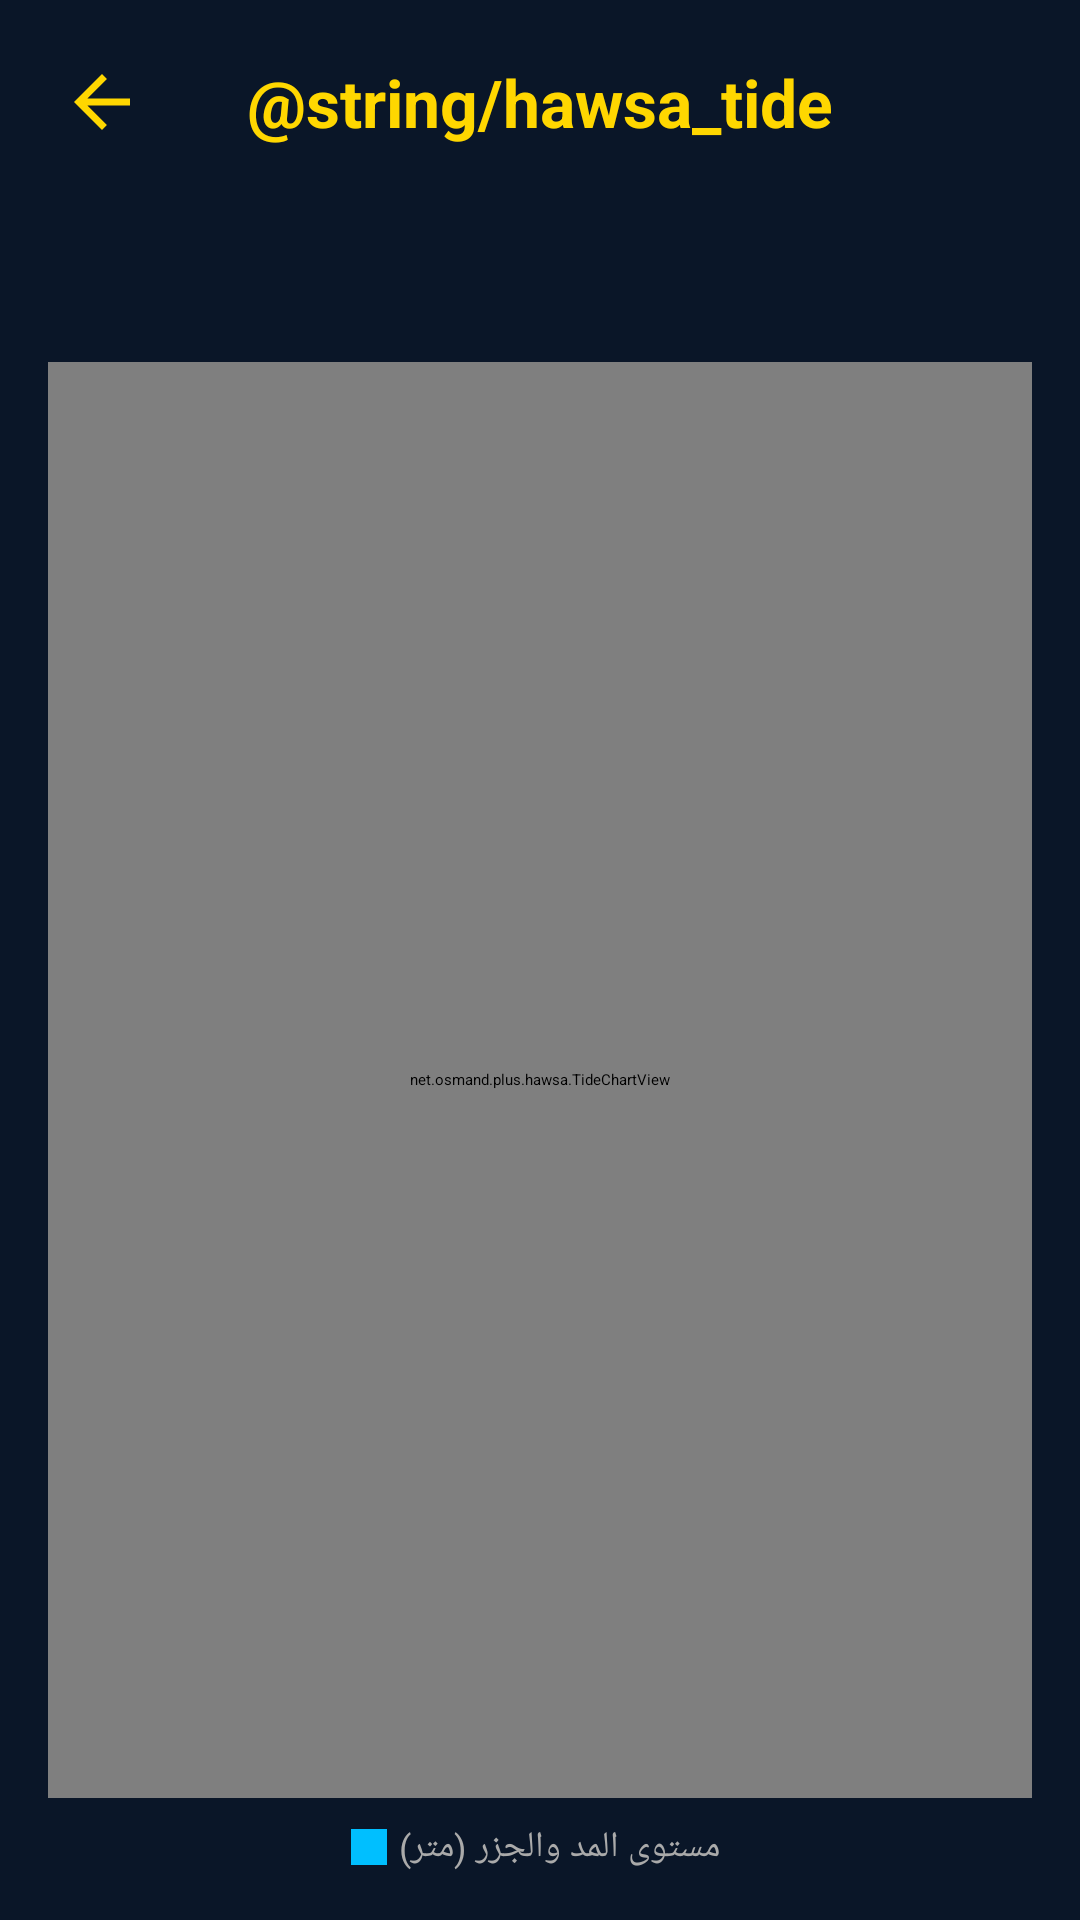

Named icons in this screenshot (1080x1920) and their centers, (x=x, y=y):
Back: (x=102, y=102)
